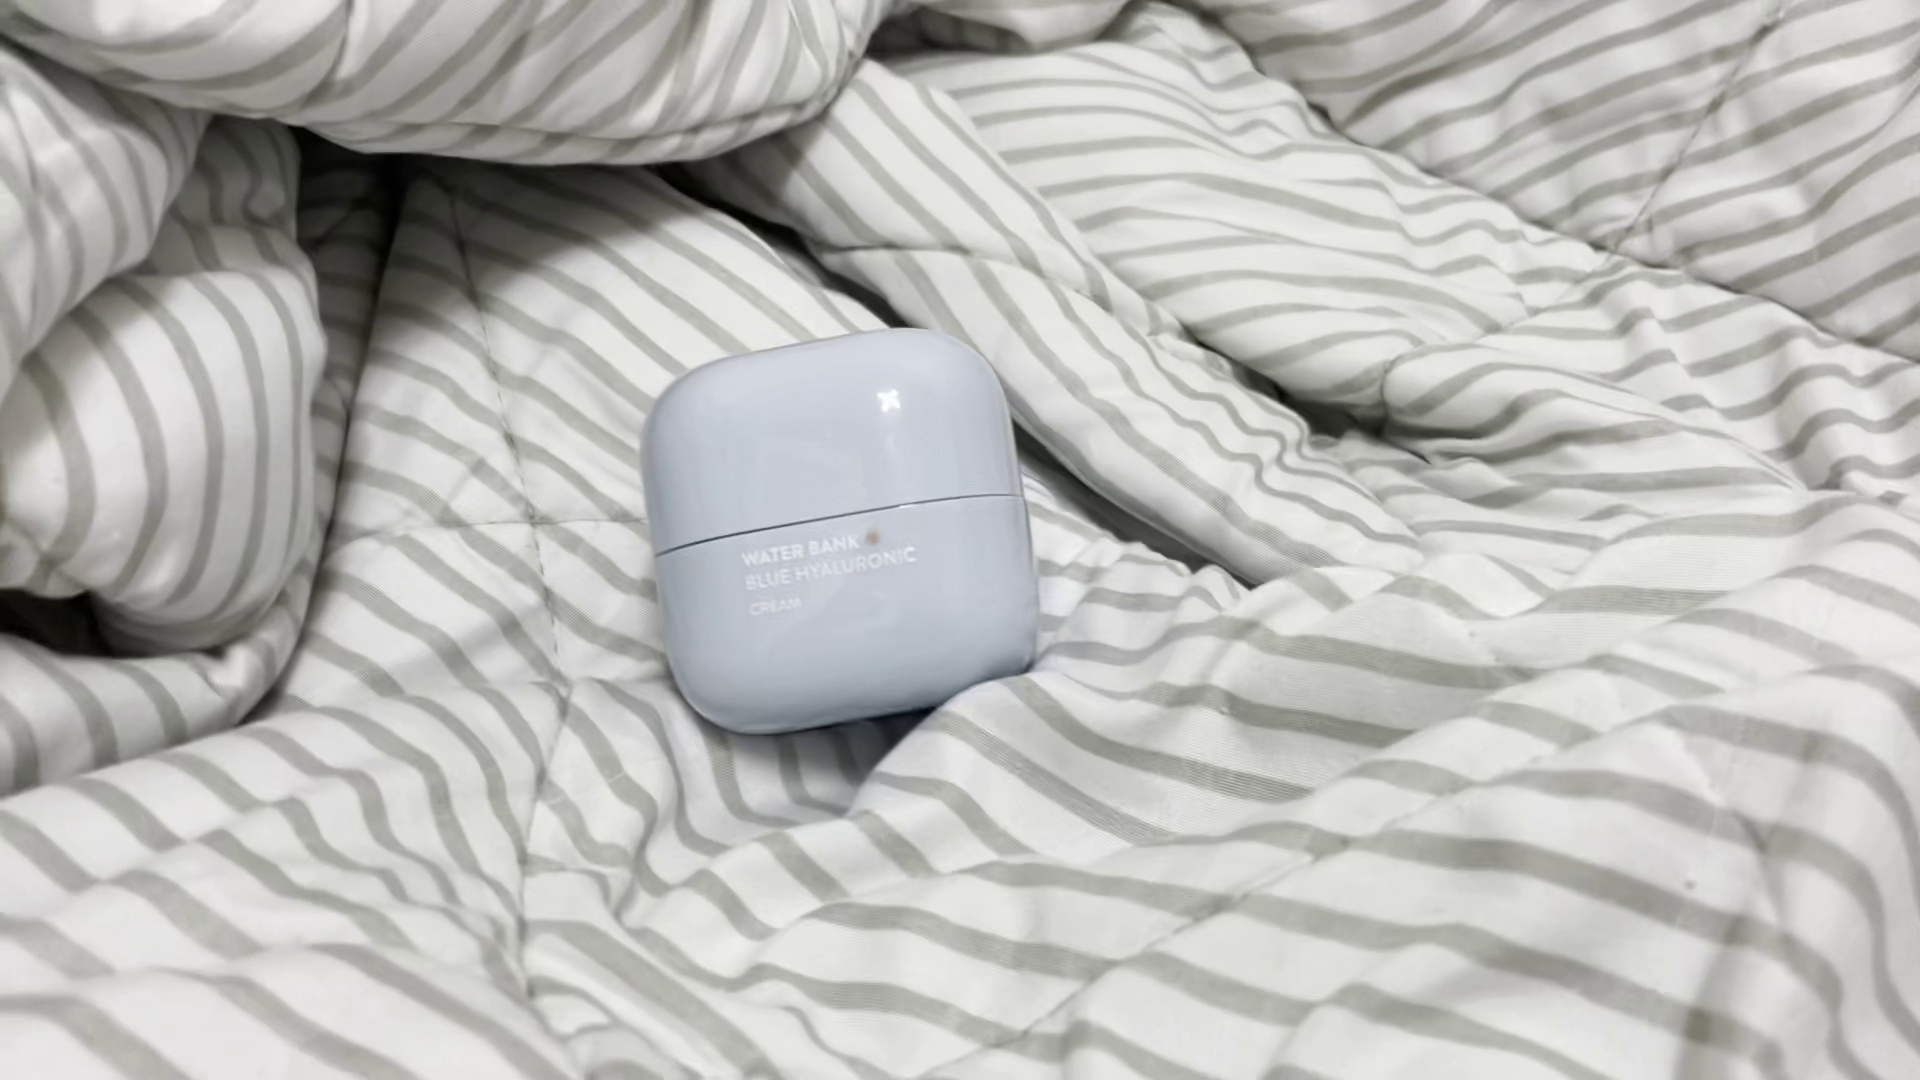cream: (638, 328, 1048, 735)
